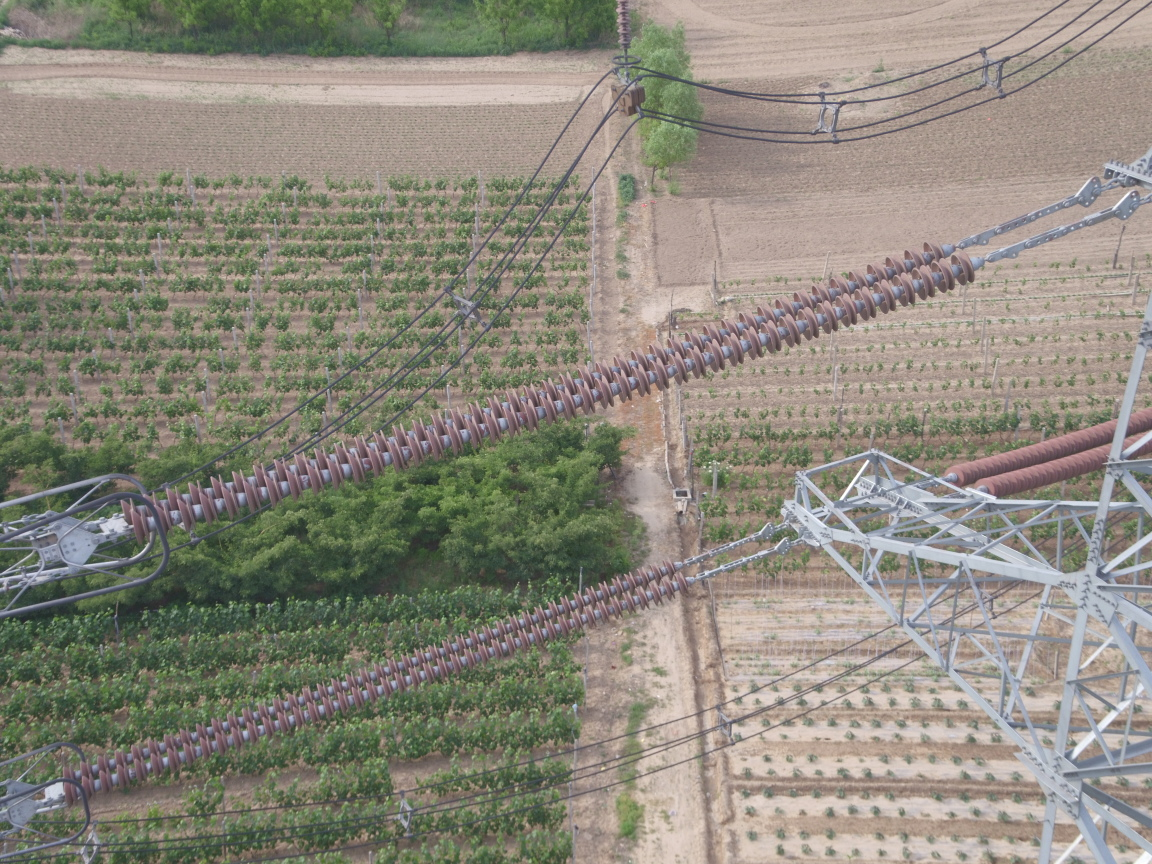insulator: (72, 217, 1037, 556), (21, 553, 748, 817)
